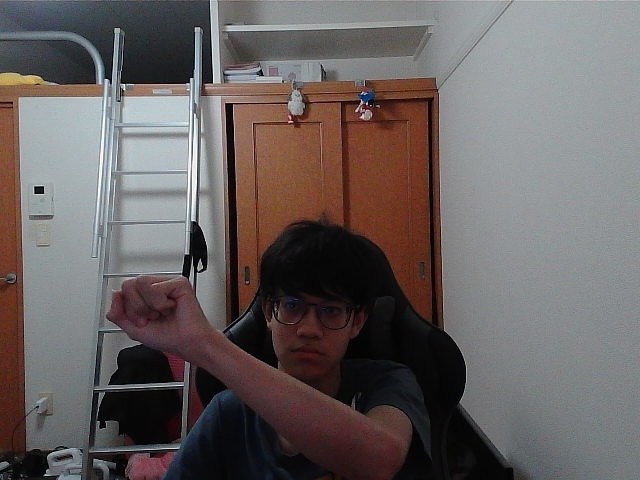closed_palm: (116, 283, 182, 342)
